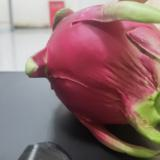pitaya: (26, 1, 160, 156)
